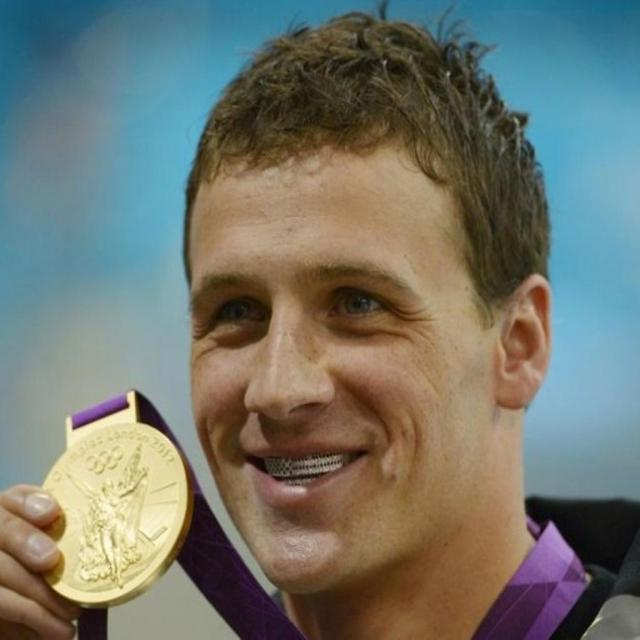Face: (160, 139, 529, 599)
